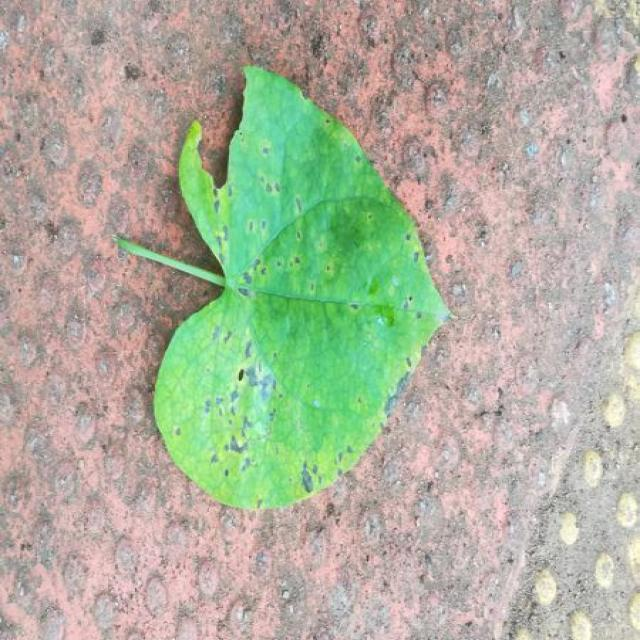Amruthaballi: (117, 66, 450, 508)
defectedAmruthaballi: (120, 66, 382, 508)
